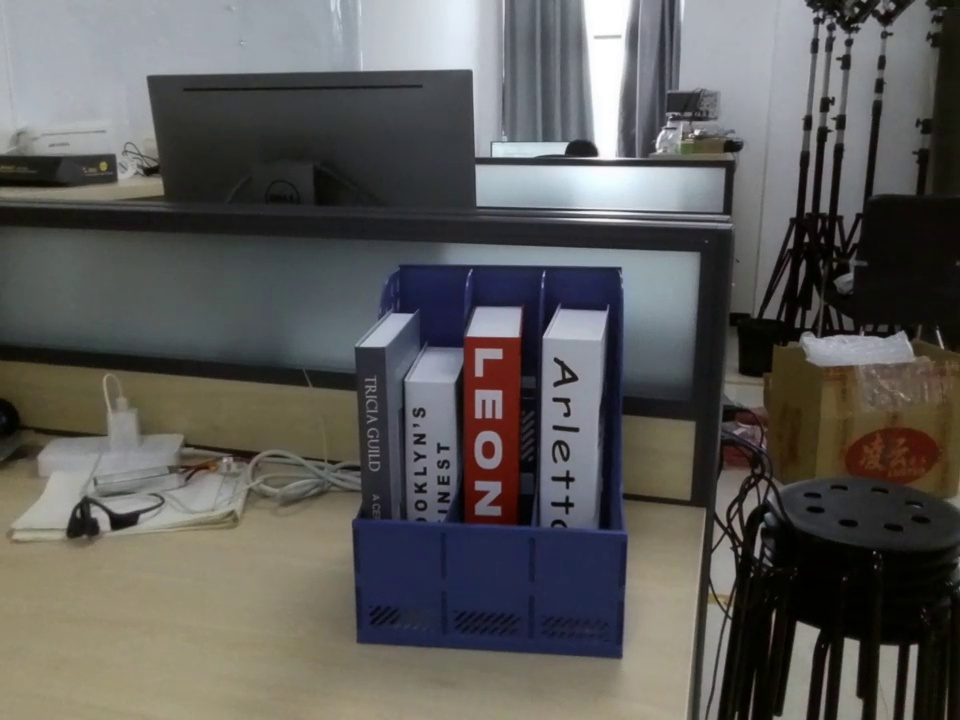files: (350, 251, 640, 662)
